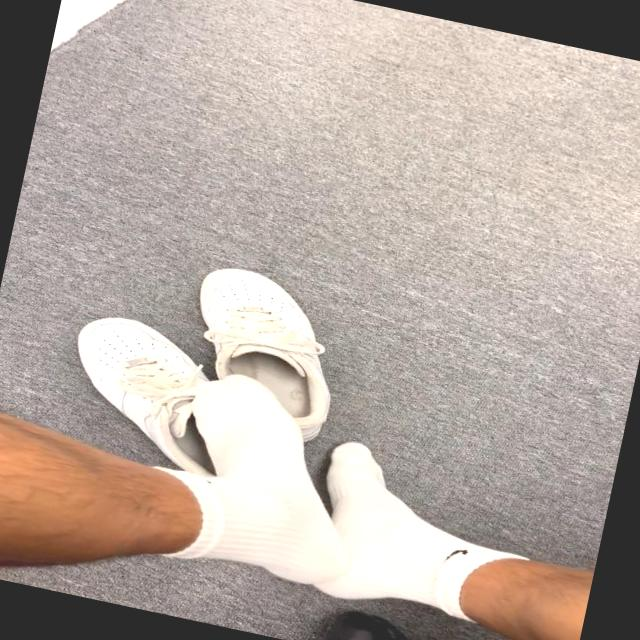nike_original_airforce: (160, 261, 352, 448), (49, 311, 241, 483)
